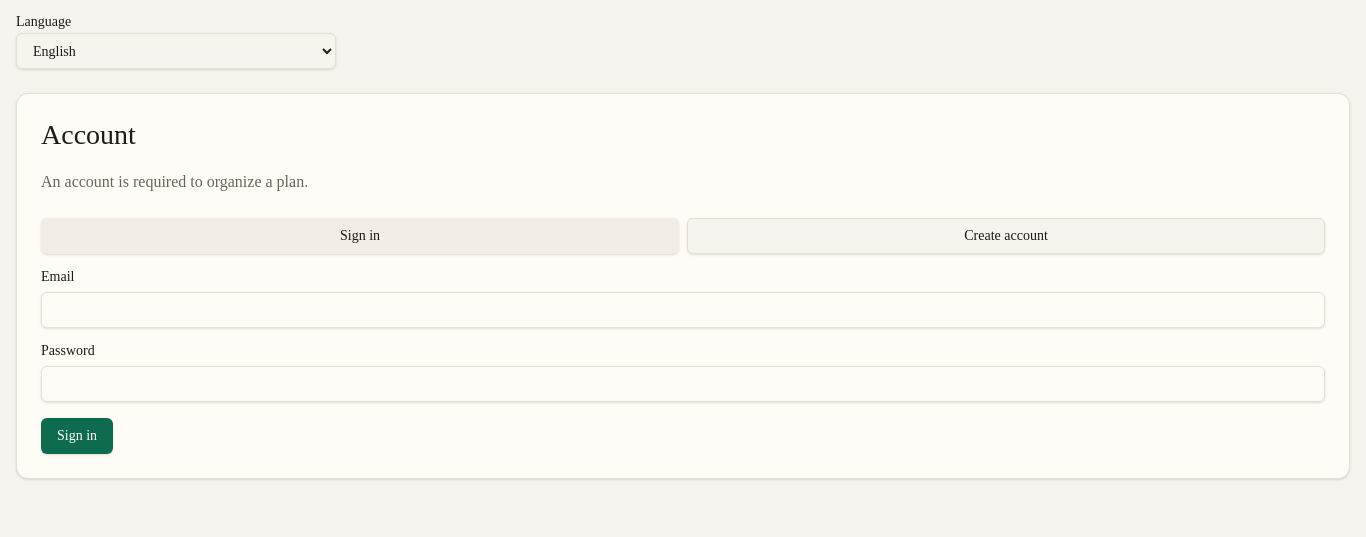
Test: AccountGate › keeps a failed sign-in on the gate, signed out, with non-secret values and text-destructive
This screenshot has width=1366, height=537.
expect the text "An account is required to organize a plan." is shown: met, box [41,173,308,190]
Type "nour@example.com" into the field labelled "Email" at (683, 310), box [41,292,1325,328]
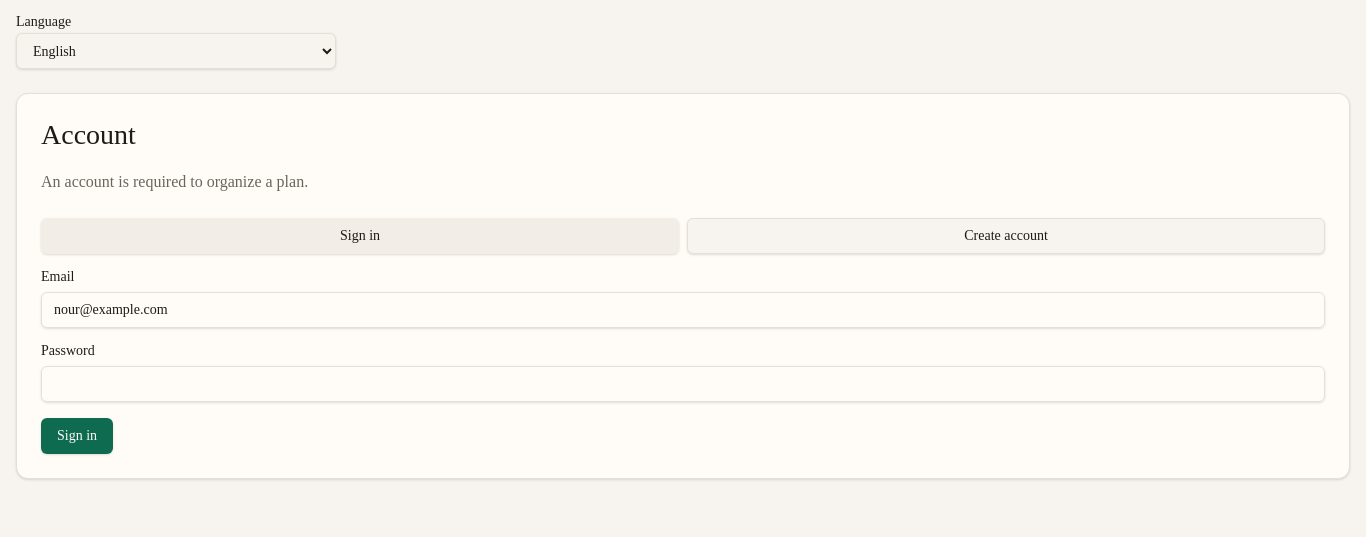
Type "wrong-pass" into the password field labelled "Password" at (683, 384), box [41,366,1325,402]
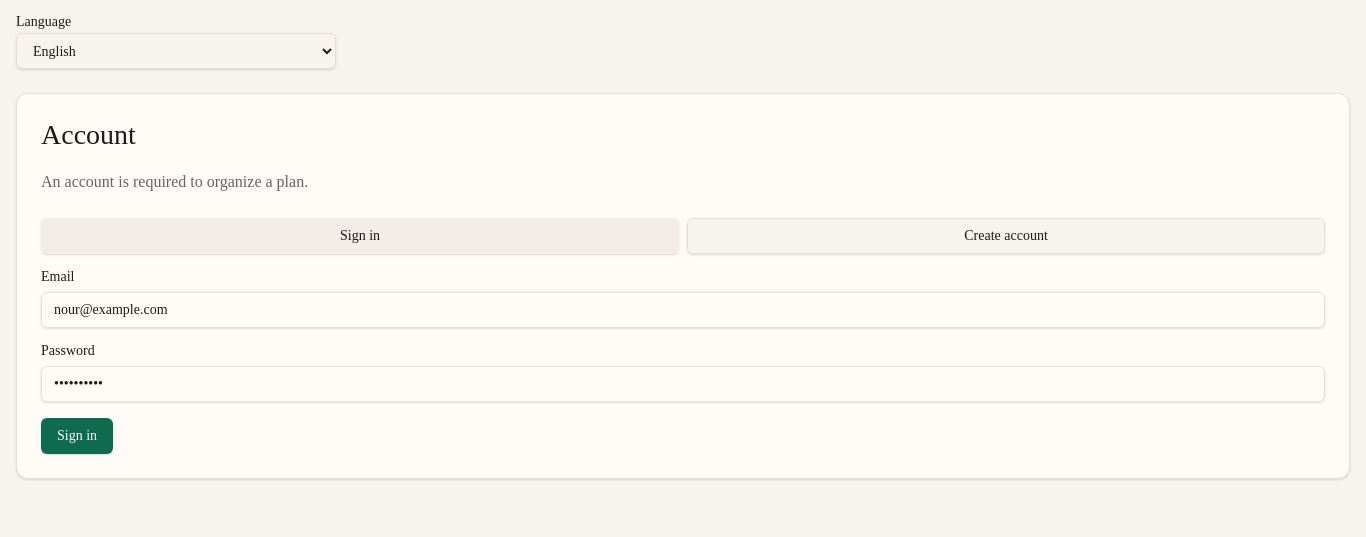
Click the button "Sign in" at (77, 436), box [41,418,113,454]
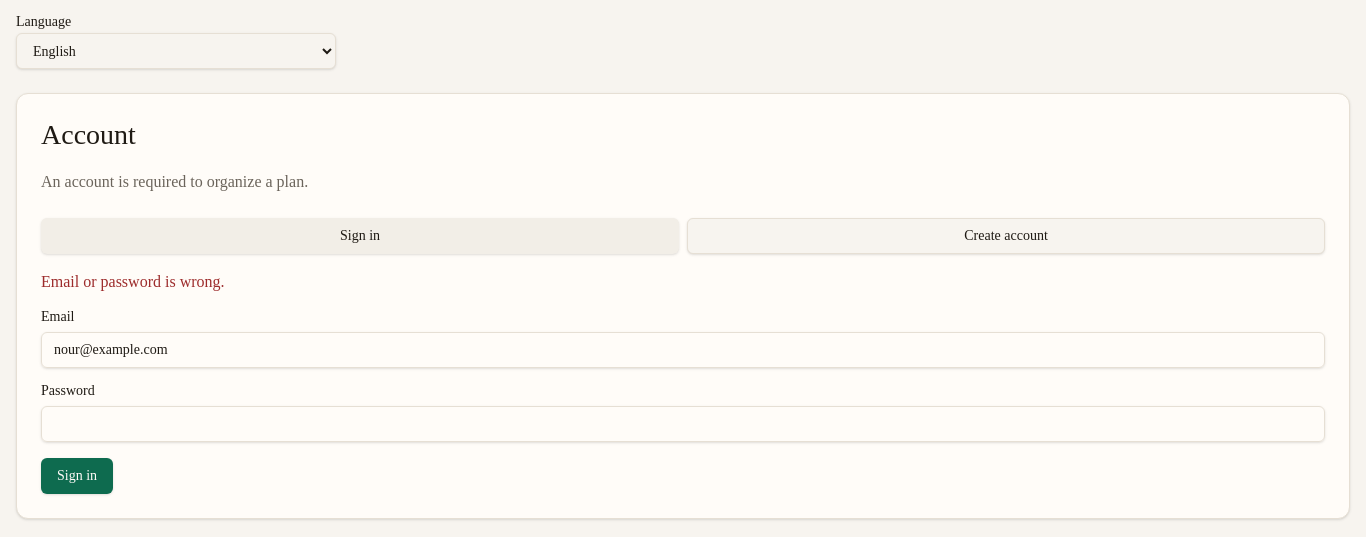
expect the text "An account is required to organize a plan." is shown: met, box [41,173,308,190]
expect the message reads "Email or password is wrong.": met, box [41,273,224,290]
expect the password field labelled "Password" is empty: met, box [41,406,1325,442]
